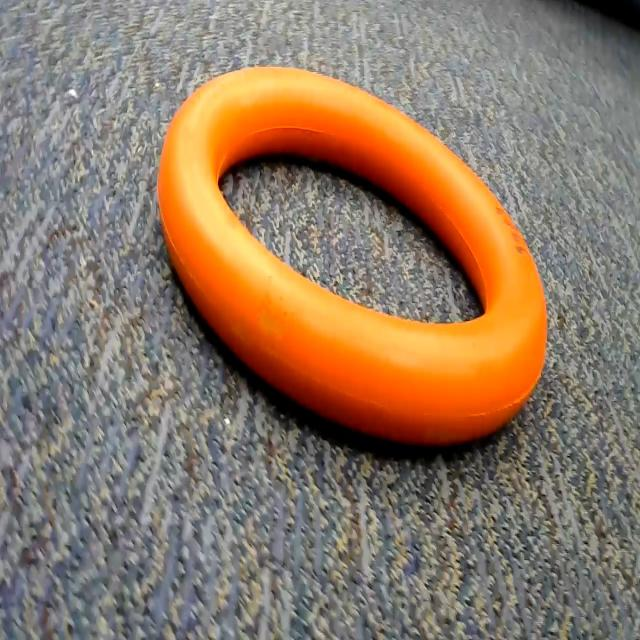note: (151, 46, 570, 487)
